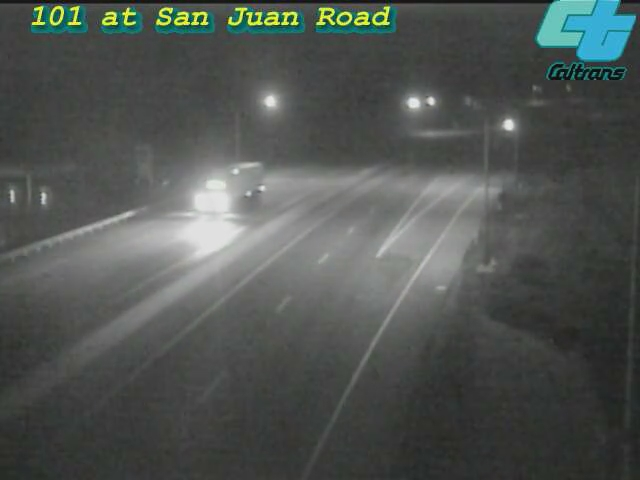vehicle: (194, 147, 274, 227), (481, 100, 531, 150)
